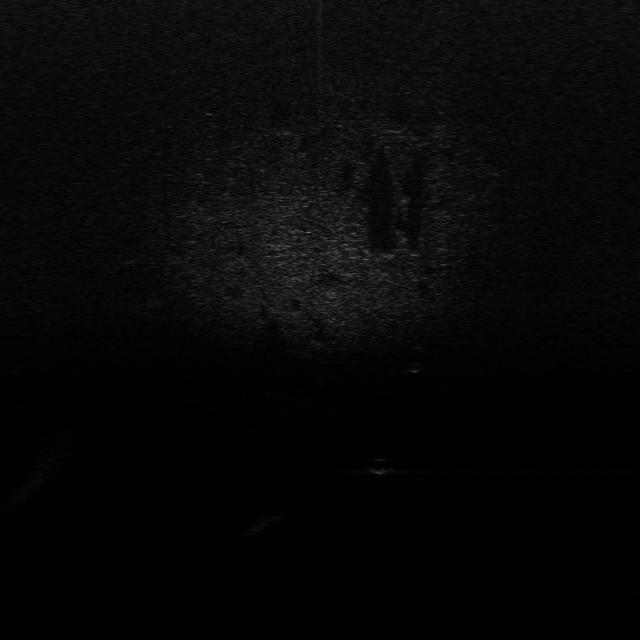ball: (366, 460, 393, 477)
square cage: (241, 508, 283, 539)
tyre: (403, 344, 432, 377)
